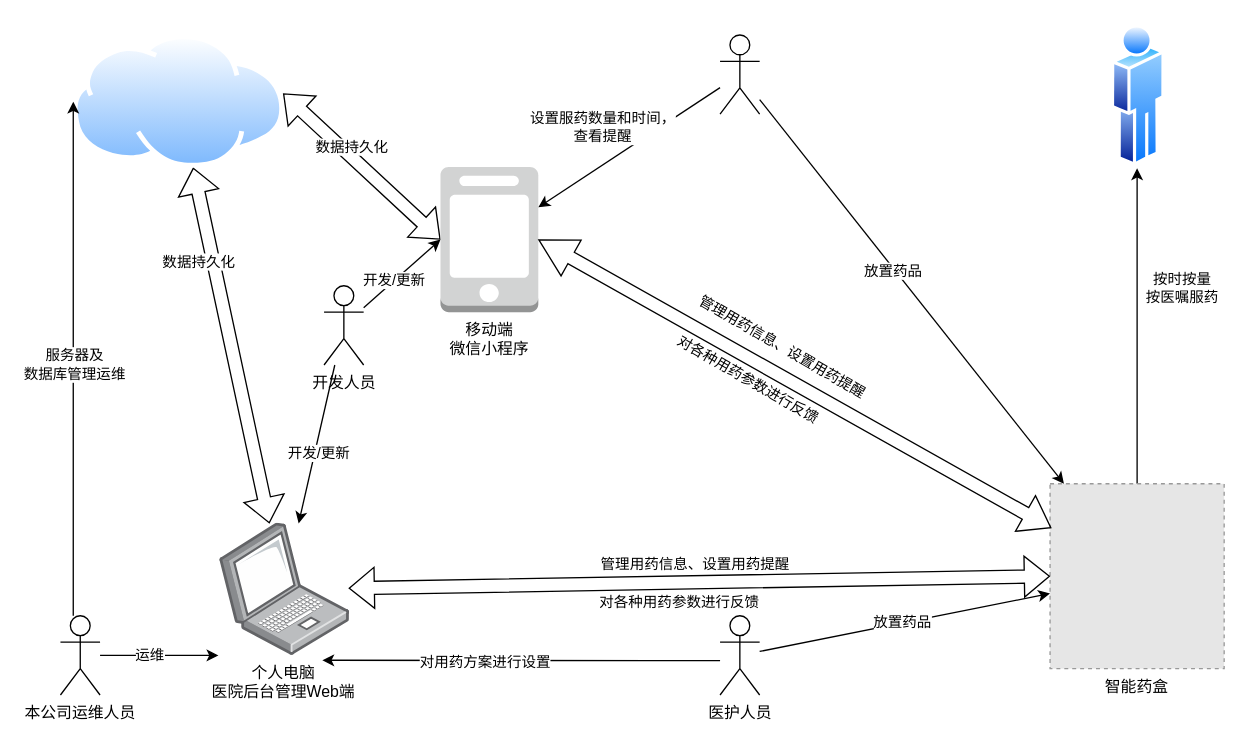
Image size: 1247x744. Some labels were removed from this diagram. Grey dashed boxes stand in for pictures. The centre of each missing label's shape, as x and y in pixels:
"家属" goes at [739,74].
"用药者" goes at [1136,95].
"腾讯云" goes at [178,101].
